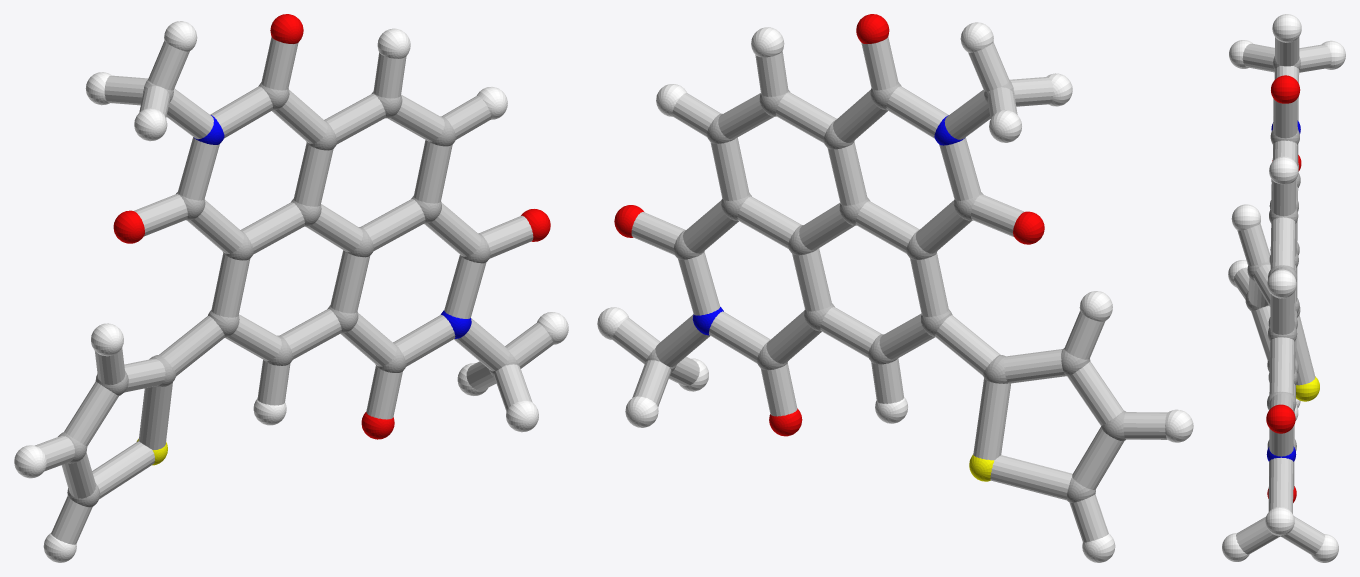
File: Dimethyl_Naphthalene_Dicarboximide_Phi_10_Theta_340_Thiophene.glb
The picture shows the model from 3 angles, left to right: view 1: azimuth 30°, elevation 25°; view 2: azimuth 150°, elevation 25°; view 3: azimuth 270°, elevation 25°; orthographic projection. The views are drawn at different scales.
Parts seen in each view (by area): view 1: grp14119, grp7241, grp1, grp12309, grp11585; view 2: grp14119, grp7241, grp1, grp12309, grp11585; view 3: grp14119, grp7241, grp1, grp12309, grp13757, grp11585.
Part boxes in pixels (<box>): grp14119: <box>35,37,553,544</box>; grp7241: <box>14,21,568,562</box>; grp1: <box>58,80,518,507</box>; grp12309: <box>113,14,550,439</box>; grp11585: <box>194,115,471,338</box>; grp14119: <box>612,37,1167,542</box>; grp7241: <box>597,22,1193,562</box>; grp1: <box>646,81,1125,502</box>; grp12309: <box>614,14,1044,436</box>; grp11585: <box>692,115,964,335</box>; grp14119: <box>1234,37,1331,554</box>; grp7241: <box>1222,14,1345,562</box>; grp1: <box>1245,56,1300,536</box>; grp12309: <box>1266,75,1301,502</box>; grp13757: <box>1296,376,1319,401</box>; grp11585: <box>1266,120,1300,461</box>.
Bounding box in the file's own units: 11.91 × 10.14 × 2.53.
